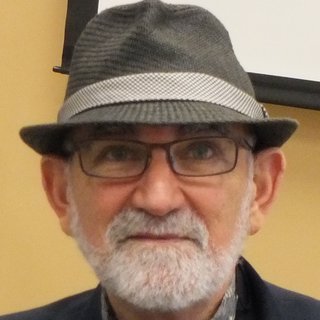eye: (177, 138, 223, 169), (91, 143, 140, 172)
